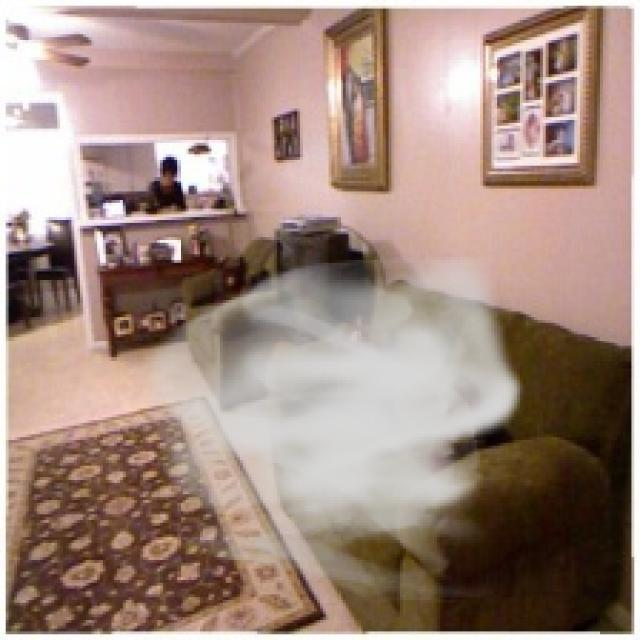Smoke: (131, 245, 526, 606)
